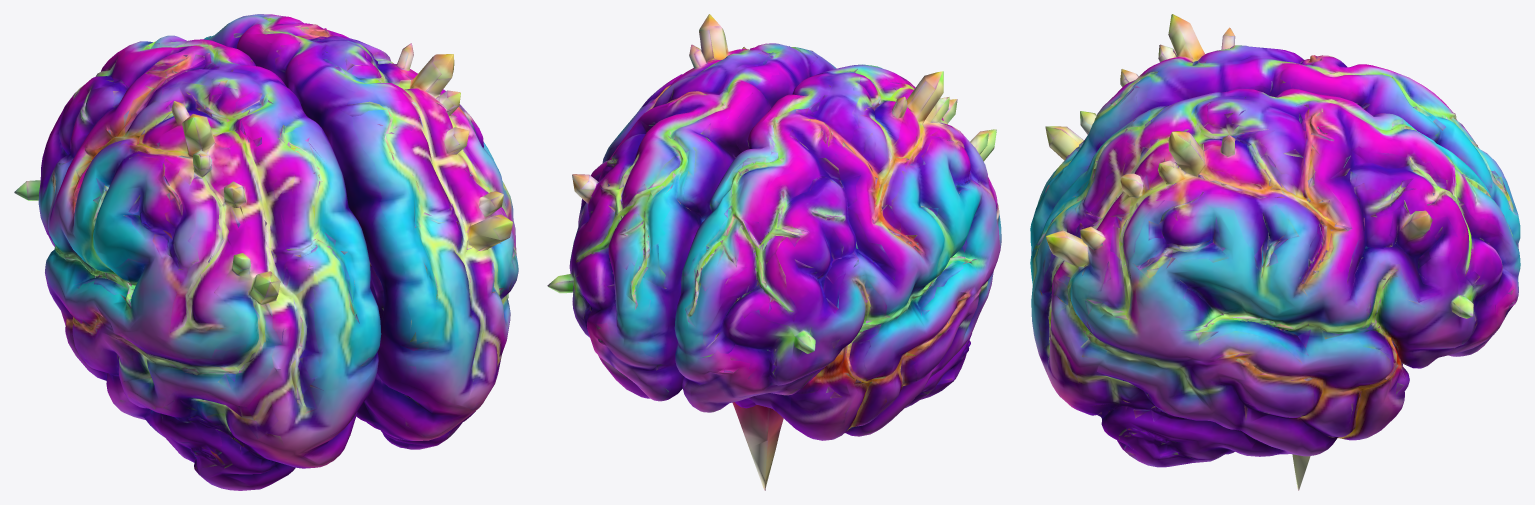
The model's file is brain.glb.
3 renders of one model, left to right at view 1: azimuth 30°, elevation 25°; view 2: azimuth 150°, elevation 25°; view 3: azimuth 270°, elevation 25°, orthographic. The views are drawn at different scales.
Parts seen in each view (by area): view 1: Mesh_0; view 2: Mesh_0; view 3: Mesh_0.
Part boxes in pixels (box(x1,y1,x2,y2)): Mesh_0: box(14, 14, 518, 490); Mesh_0: box(547, 14, 1001, 490); Mesh_0: box(1030, 14, 1520, 490).
Bounding box in the file's own units: 1.59 × 1.79 × 1.9.
1 material, 1 textured.
